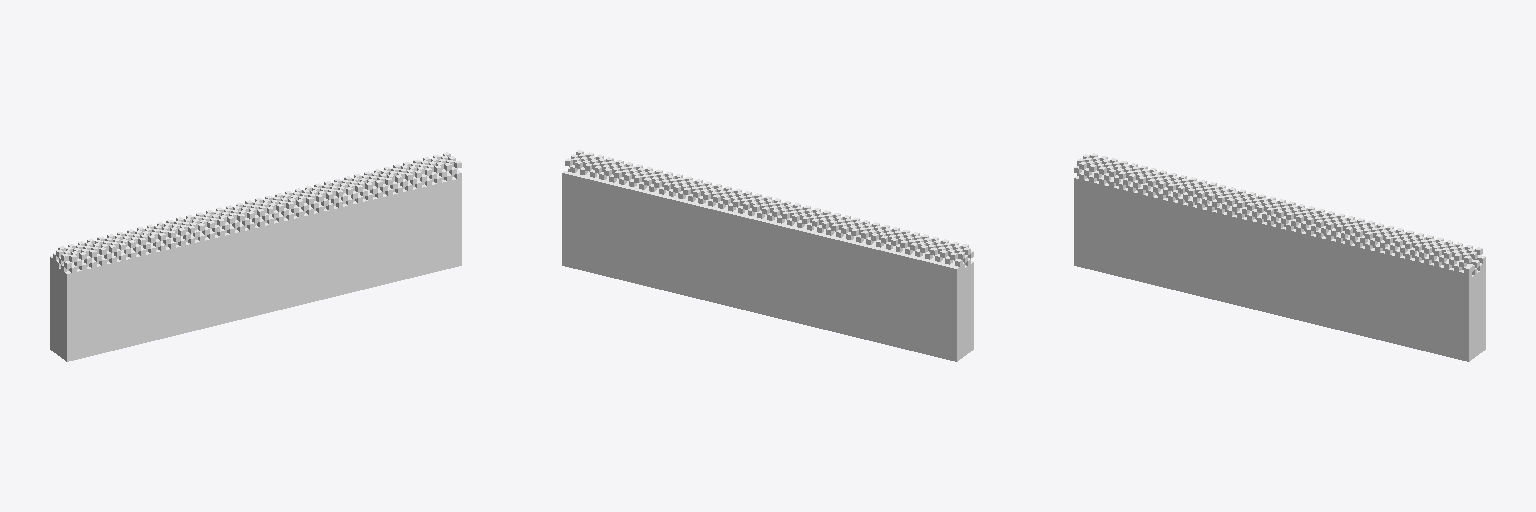
The model's file is voxelwall-0.obj.
The picture shows the model from 3 angles: view 1: azimuth 30°, elevation 25°; view 2: azimuth 150°, elevation 25°; view 3: azimuth 330°, elevation 25°; orthographic projection.
Parts seen in each view (by area): view 1: object 1; view 2: object 1; view 3: object 1.
Part boxes in pixels (x1,y1,x2,y2): object 1: (50, 152, 461, 361); object 1: (562, 150, 973, 361); object 1: (1074, 153, 1485, 361).
Bounding box in the file's own units: 16 × 4 × 1.2.